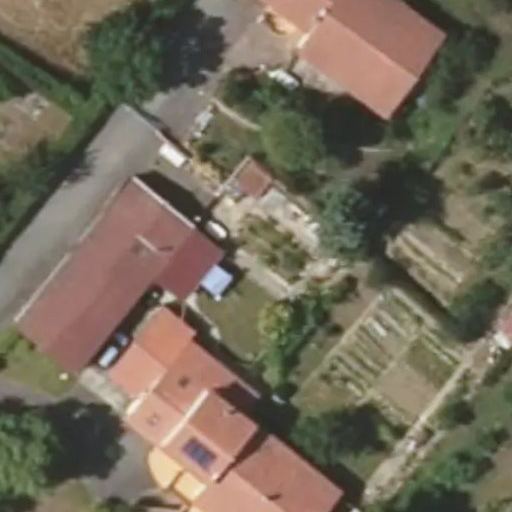pool: (210, 235, 304, 247)
